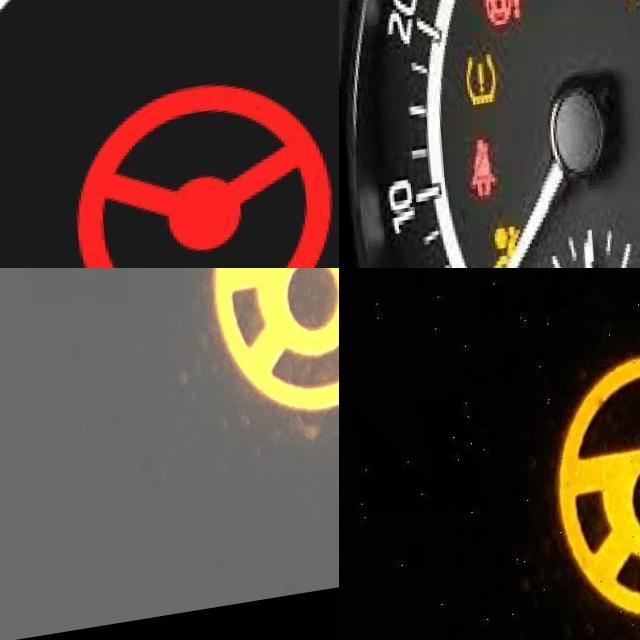Electronic Power Steering: (201, 268, 339, 440), (478, 0, 520, 35)
Electronic Power Steering Warning: (61, 70, 339, 268), (543, 342, 640, 640)
Seat Belt: (463, 143, 493, 205)
